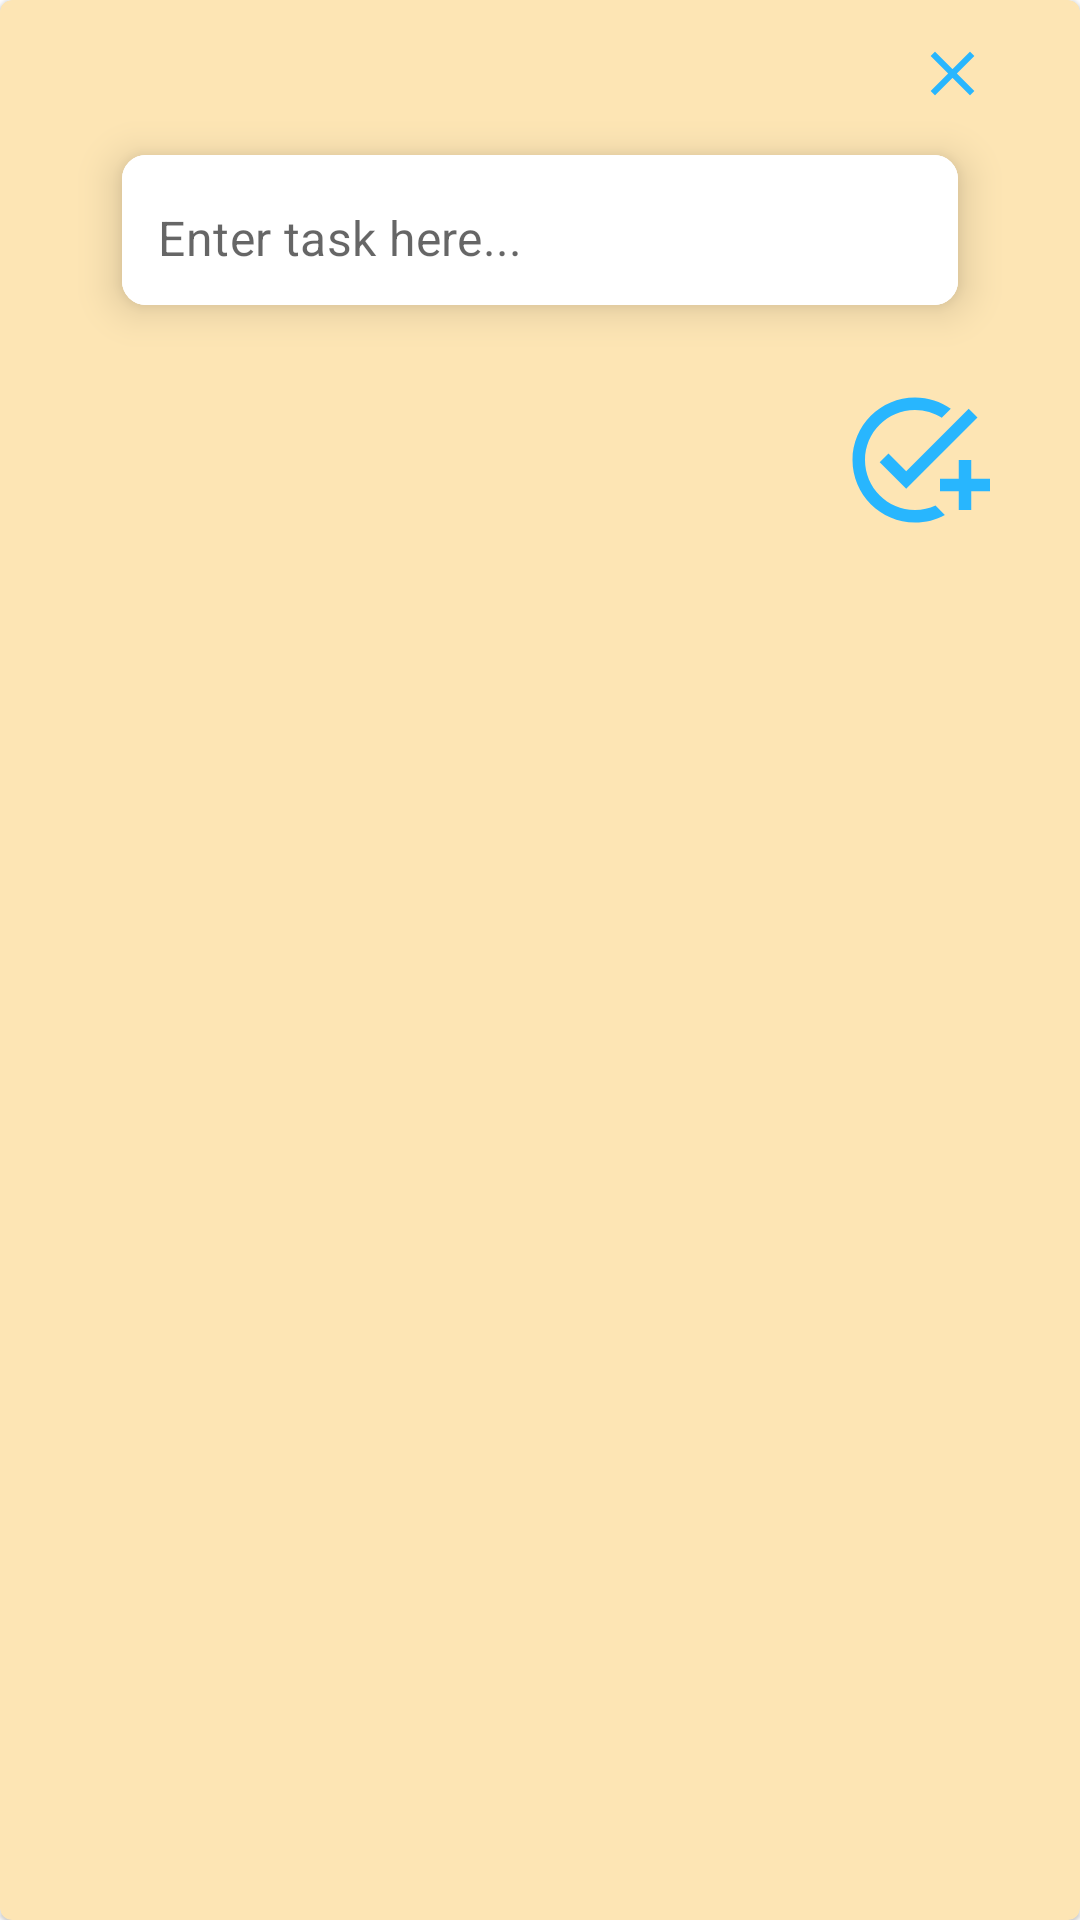

Icons on this 1080*1920 Android screen, each with the point to tap as (x,y):
add task: (921,460)
close: (952,73)
